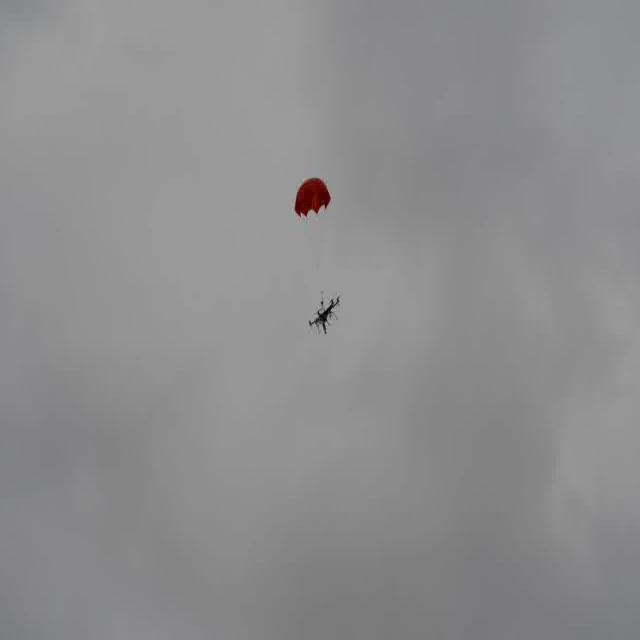drone: (306, 290, 342, 336)
